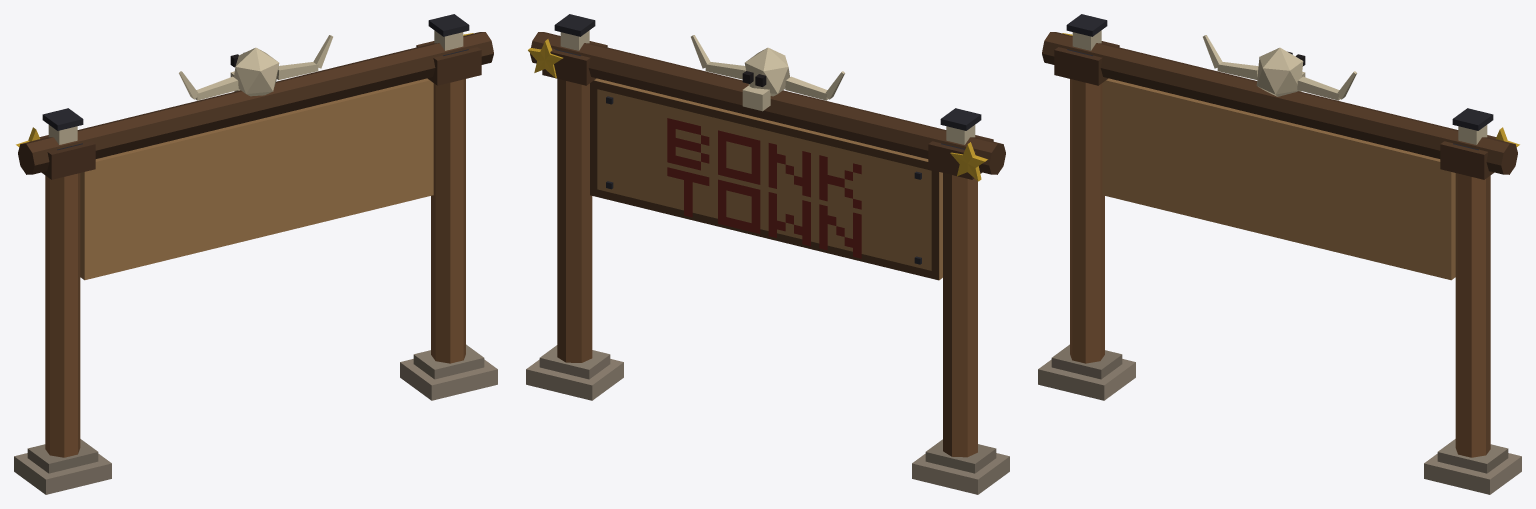
The model's file is Decor_WesternSaloon_Gate.fbx.
3 renders of one model, left to right at view 1: azimuth 30°, elevation 25°; view 2: azimuth 150°, elevation 25°; view 3: azimuth 330°, elevation 25°, orthographic.
Parts seen in each view (by area): view 1: Gate_Body; view 2: Gate_Body; view 3: Gate_Body.
Boxes of the visible parts, x1,y1,x2,y2 form: Gate_Body: [14, 14, 497, 494]; Gate_Body: [526, 14, 1009, 494]; Gate_Body: [1038, 14, 1521, 494].
Bounding box in the file's own units: 25 × 19.8 × 3.
